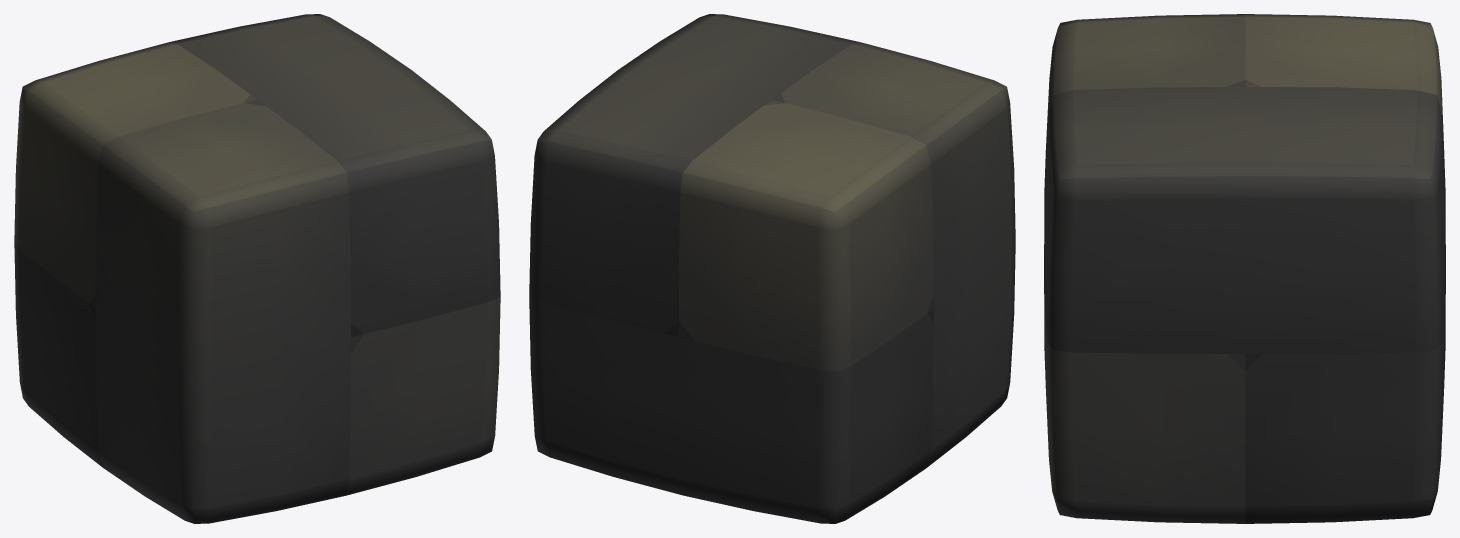
The model's file is block_stone4_1_LOD_setup.fbx.
The picture shows the model from 3 angles, left to right: view 1: azimuth 30°, elevation 25°; view 2: azimuth 150°, elevation 25°; view 3: azimuth 270°, elevation 25°; orthographic projection. The views are drawn at different scales.
Parts seen in each view (by area): view 1: block_stone4_1_LOD0; view 2: block_stone4_1_LOD0; view 3: block_stone4_1_LOD0.
Part boxes in pixels (x1,y1,x2,y2): block_stone4_1_LOD0: (14, 14, 500, 523); block_stone4_1_LOD0: (529, 14, 1015, 523); block_stone4_1_LOD0: (1044, 14, 1445, 523).
Size of what is drawn, in the model's own units: 109 by 109 by 109.
